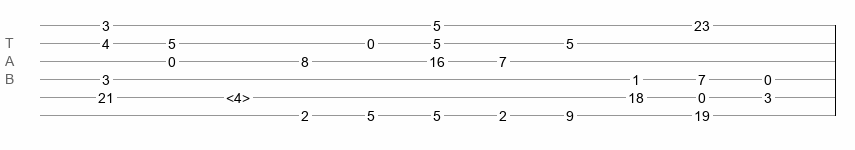0: (168, 54, 176, 64), (367, 36, 375, 46), (698, 90, 706, 100), (764, 72, 772, 82)
1: (632, 72, 640, 82)
16: (429, 54, 445, 64)
18: (628, 90, 644, 100)
19: (694, 108, 710, 118)
2: (301, 108, 309, 118), (499, 108, 507, 118)
21: (98, 90, 114, 100)
23: (694, 18, 710, 28)
3: (102, 72, 110, 82), (102, 18, 110, 28), (764, 90, 772, 100)
4: (102, 36, 110, 46)
5: (168, 36, 176, 46), (367, 108, 375, 118), (433, 36, 441, 46), (433, 108, 441, 118), (433, 18, 441, 28), (566, 36, 574, 46)
7: (499, 54, 507, 64), (698, 72, 706, 82)
8: (301, 54, 309, 64)
9: (566, 108, 574, 118)
harmonic: (226, 90, 250, 100)
